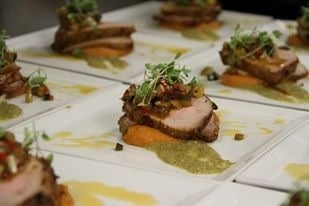soup: (117, 59, 221, 145), (50, 1, 138, 71)
